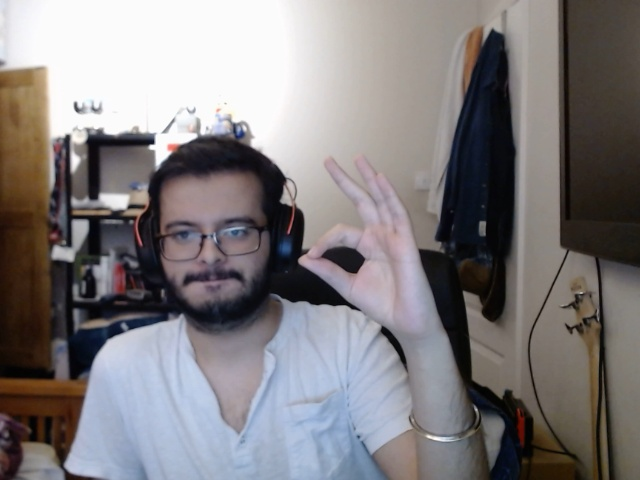Okay: (296, 153, 442, 358)
